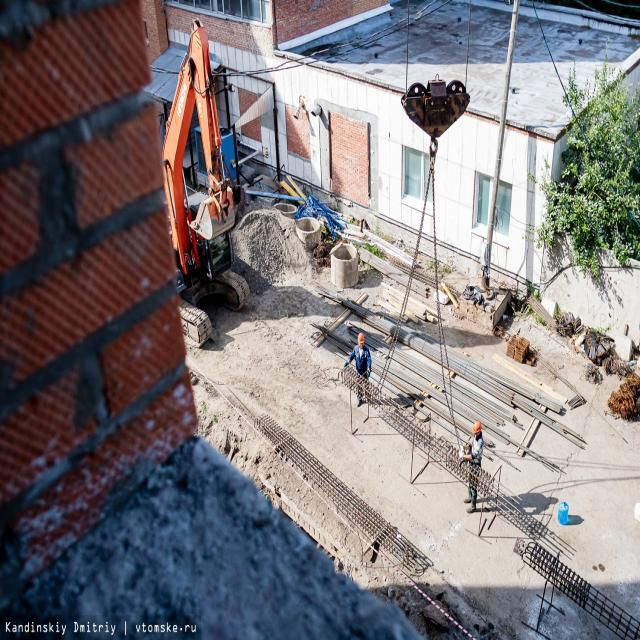Helmet: (473, 421, 483, 434), (358, 334, 366, 345)
NoJacket: (471, 438, 483, 462), (357, 347, 367, 374)
